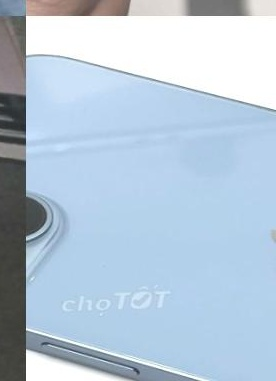physical_damage: (0, 16, 26, 52)
